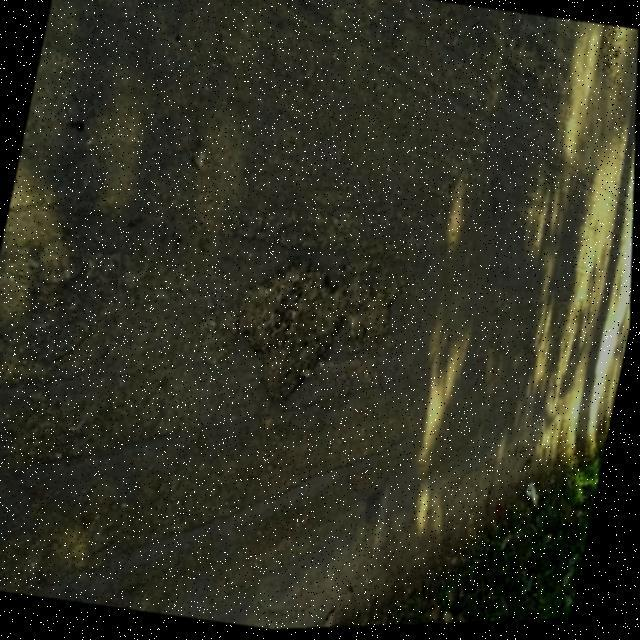pothole: (218, 248, 408, 422)
